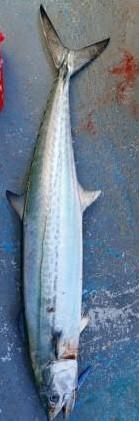fish: (6, 5, 110, 420)
